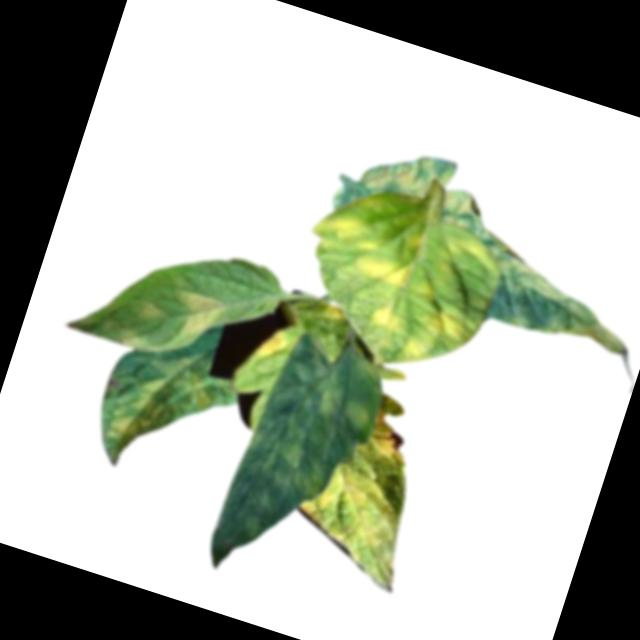Leaf_Mold: (281, 175, 513, 387), (203, 331, 386, 597), (282, 453, 427, 595), (486, 245, 640, 366), (101, 338, 227, 478), (354, 135, 460, 218), (364, 410, 419, 468), (176, 290, 226, 341), (251, 320, 293, 367), (133, 298, 172, 328)
